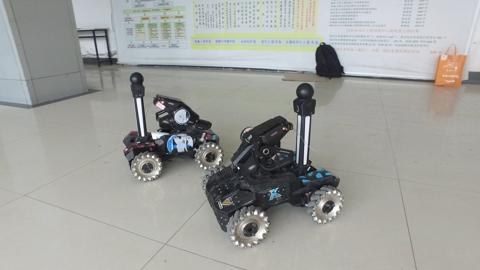chariot: (201, 79, 345, 255), (112, 69, 226, 182)
